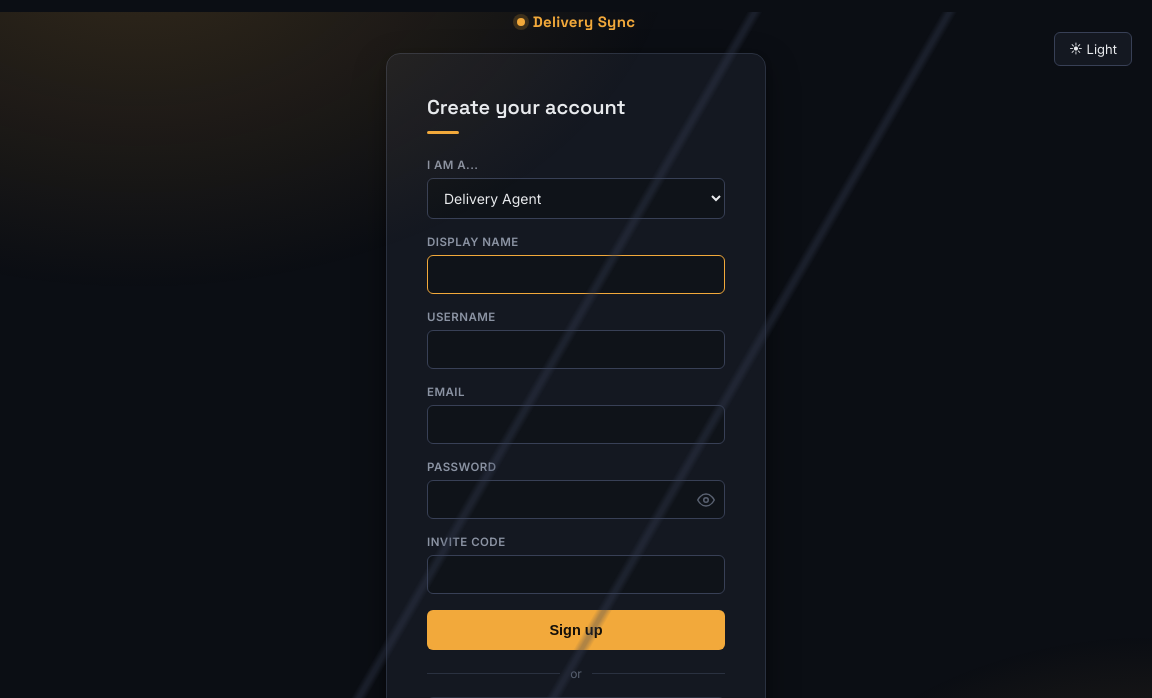
SignupPage › shows the Organization Name field, not Invite Code, for the admin role
Select "Business / Team Admin (create new organization)" in the dropdown labelled "I am a..." at (576, 198), box x1=427 y1=178 x2=725 y2=219
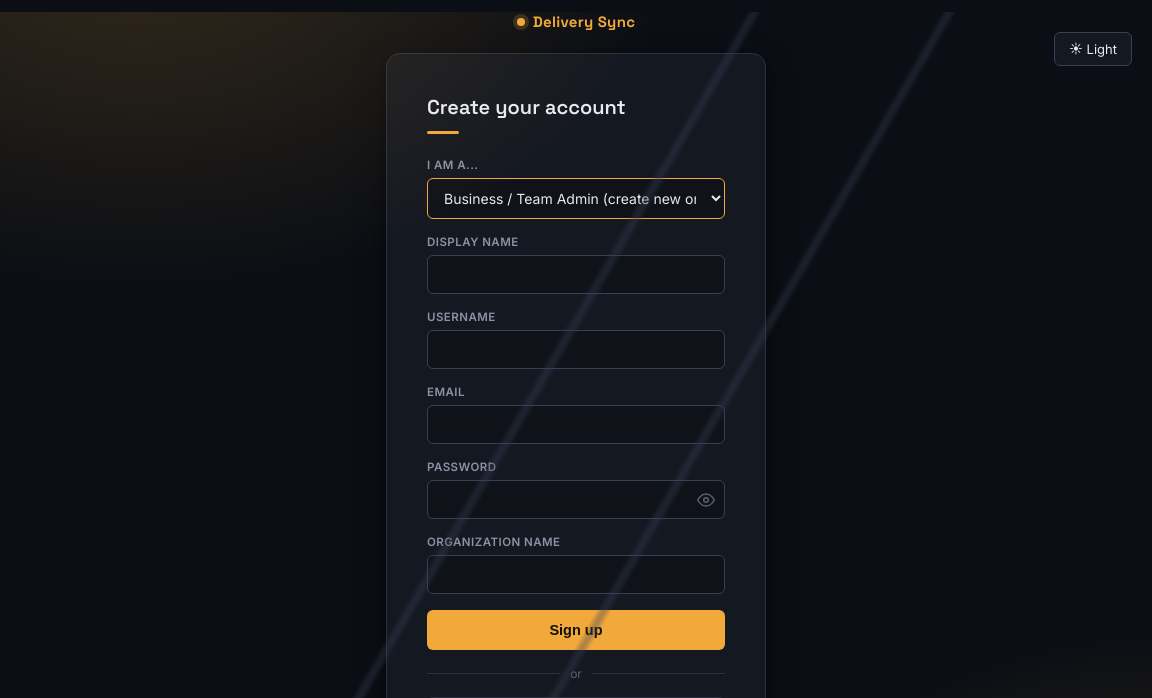
Expected: the field labelled "Organization Name" is shown, x1=427 y1=555 x2=725 y2=594
Result: the label labelled "Invite Code" is gone
